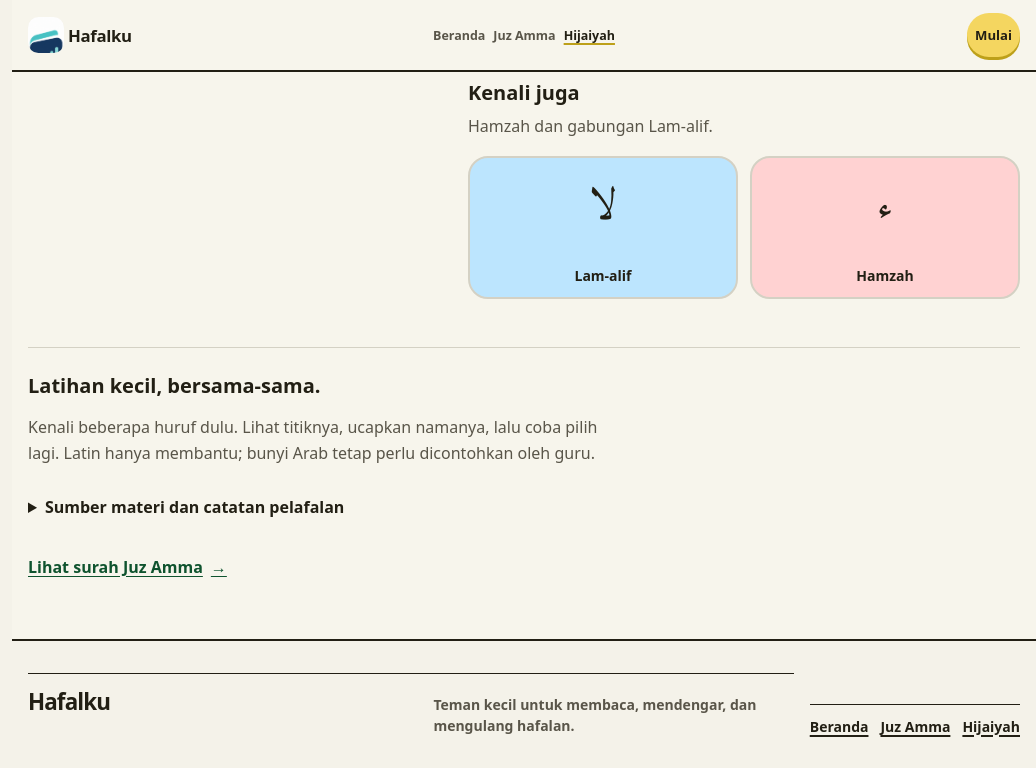
Test: Hijaiyah learning › opens through the real route, marks navigation active and exposes source notes
(page scrolled)
Click the heading "Sumber materi dan catatan pelafalan": x=195, y=506 [45, 496, 344, 518]
(page scrolled)
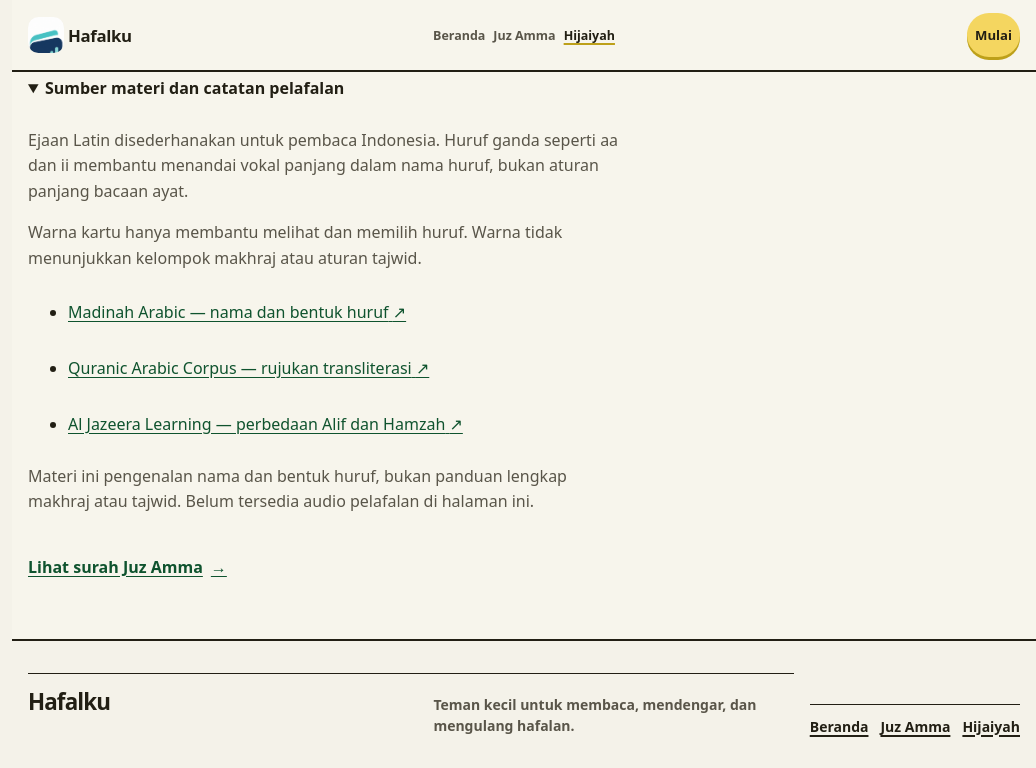
expect the text "Belum tersedia audio pelafalan" is shown: met, box [28, 464, 567, 512]
expect the text "Warna tidak menunjukkan kelompok makhraj" is shown: met, box [28, 221, 562, 269]
